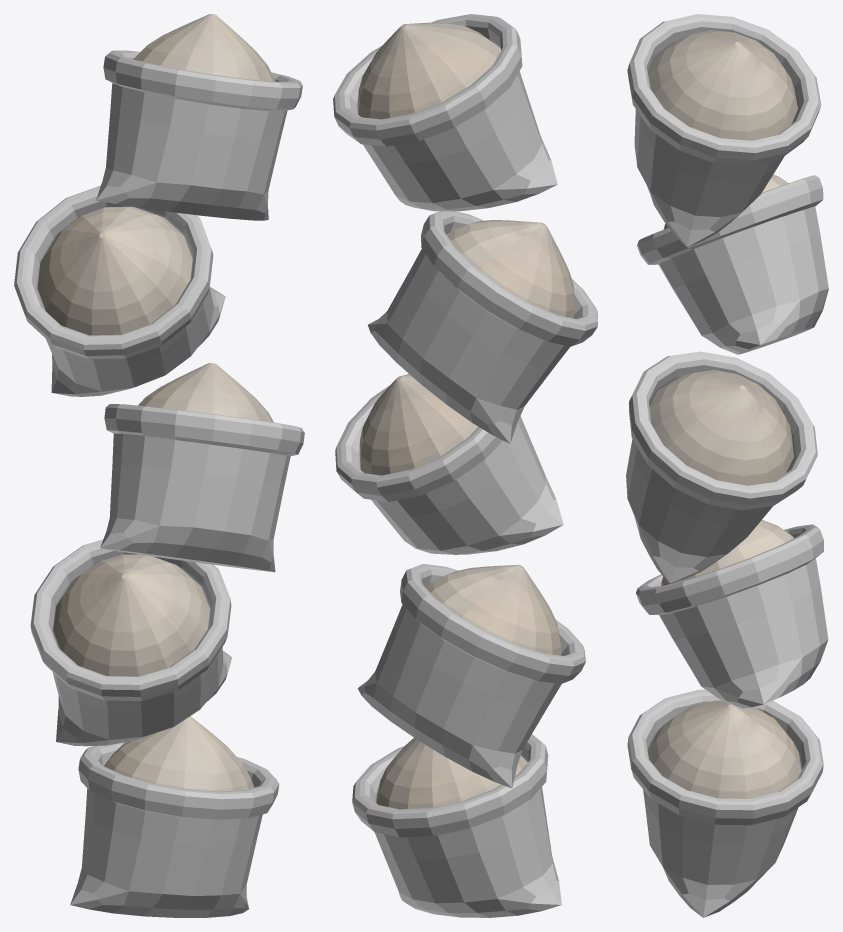
Rendered from flour5.fbx.
3 views of the same model, side by side, from view 1: azimuth 30°, elevation 25°; view 2: azimuth 150°, elevation 25°; view 3: azimuth 270°, elevation 25° (orthographic). The views are drawn at different scales.
Visible parts, largest first — view 1: Flour5; view 2: Flour5; view 3: Flour5.
Boxes of the visible parts, x1=… form: Flour5: x1=14, y1=14, x2=304, y2=917; Flour5: x1=333, y1=14, x2=597, y2=917; Flour5: x1=626, y1=14, x2=828, y2=917.
Bounding box in the file's own units: 15.51 × 51.9 × 11.02.
